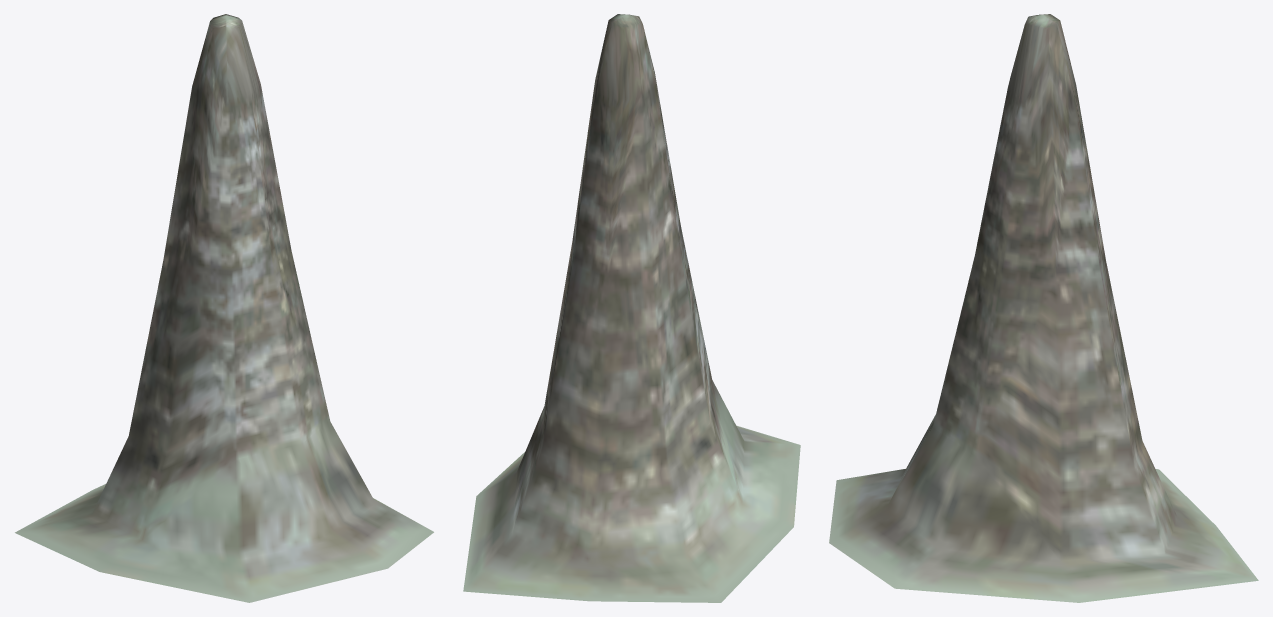
Rendered from TROLLHOLE02_PS-MAINSTALAG53.fbx.
3 views of the same model, side by side, from view 1: azimuth 30°, elevation 25°; view 2: azimuth 150°, elevation 25°; view 3: azimuth 270°, elevation 25° (orthographic). The views are drawn at different scales.
Parts seen in each view (by area): view 1: TROLLHOLE02_PS-MAINSTALAG53; view 2: TROLLHOLE02_PS-MAINSTALAG53; view 3: TROLLHOLE02_PS-MAINSTALAG53.
Part boxes in pixels (<box>): TROLLHOLE02_PS-MAINSTALAG53: <box>15,14,433,602</box>; TROLLHOLE02_PS-MAINSTALAG53: <box>463,14,800,602</box>; TROLLHOLE02_PS-MAINSTALAG53: <box>829,14,1258,602</box>.
Bounding box in the file's own units: 26107 × 45143 × 32814.
1 material, 1 textured.
